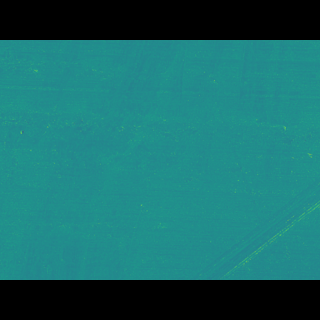Loch: (0, 67, 310, 172), (13, 84, 169, 250), (188, 167, 320, 249)
